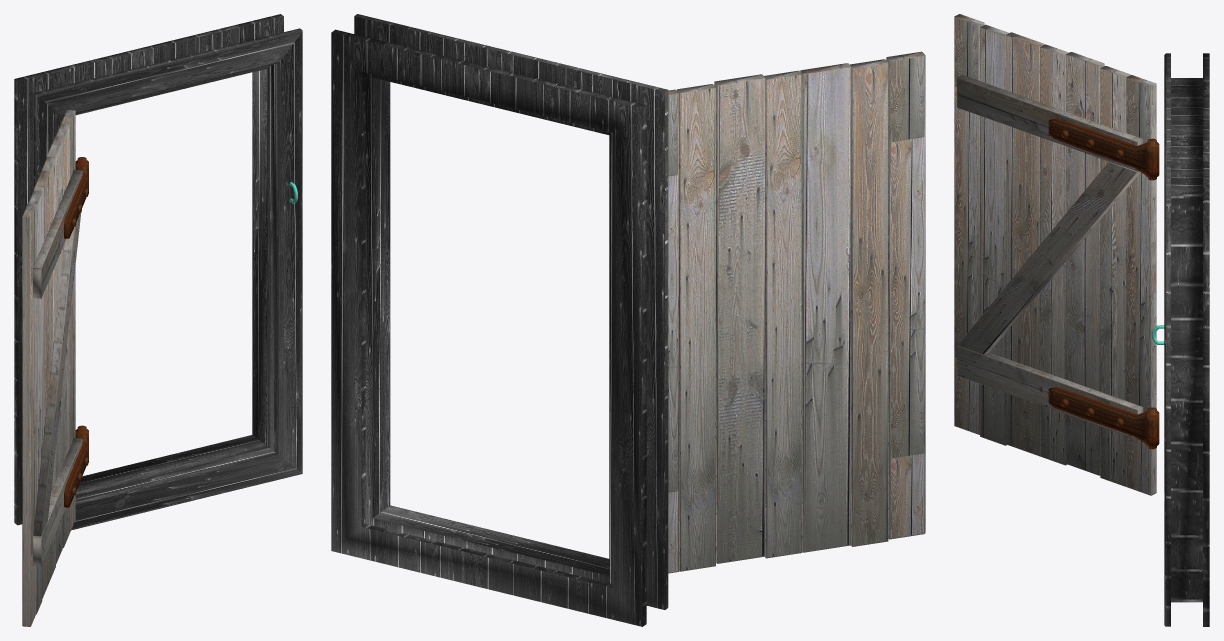
File: door.obj
3 views of the same model, side by side, from view 1: azimuth 30°, elevation 25°; view 2: azimuth 150°, elevation 25°; view 3: azimuth 270°, elevation 25° (orthographic). The views are drawn at different scales.
Parts seen in each view (by area): view 1: Line02, Plane09, Cylinder40, Cylinder07; view 2: Plane09, Line02; view 3: Plane09, Line02, Cylinder07, Cylinder40.
Boxes of the visible parts, x1=… form: Line02: x1=14, y1=14, x2=302, y2=530; Plane09: x1=22, y1=110, x2=82, y2=626; Cylinder40: x1=64, y1=157, x2=88, y2=238; Cylinder07: x1=64, y1=425, x2=88, y2=507; Plane09: x1=668, y1=51, x2=925, y2=573; Line02: x1=331, y1=14, x2=668, y2=626; Plane09: x1=954, y1=14, x2=1156, y2=495; Line02: x1=1164, y1=53, x2=1209, y2=626; Cylinder07: x1=1048, y1=387, x2=1159, y2=449; Cylinder40: x1=1048, y1=118, x2=1159, y2=180.
Bounding box in the file's own units: 49372 × 54629 × 28502.
Materials: 5 (4 with a texture image).
